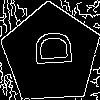D: (26, 29, 72, 69)
